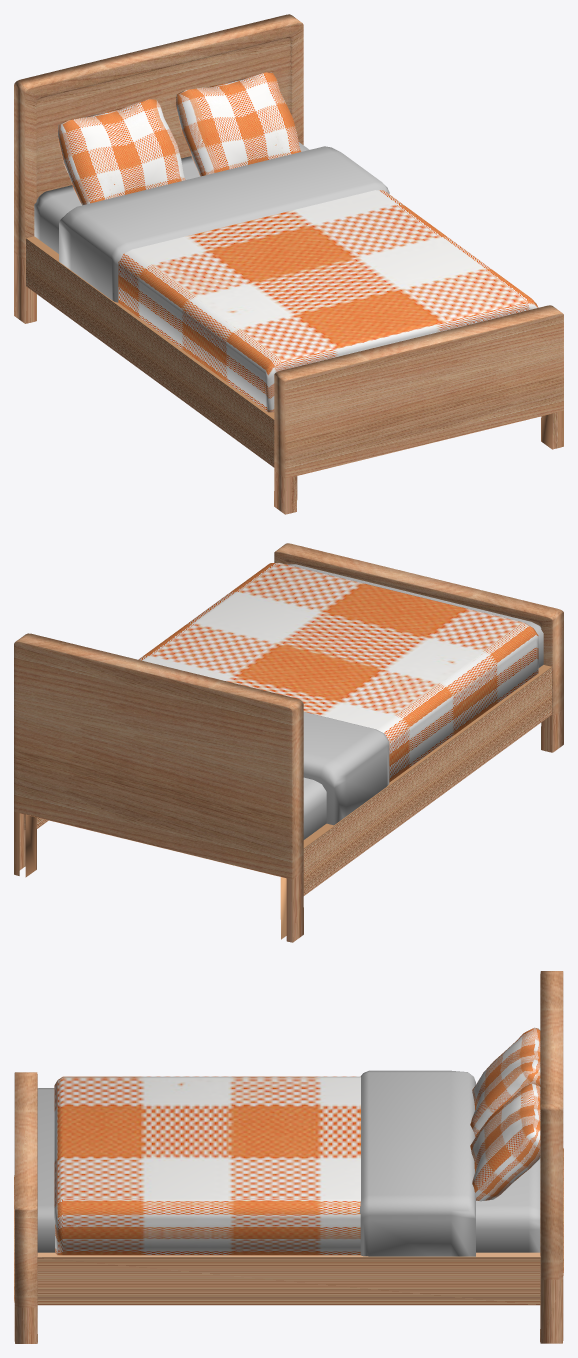
The model's file is cama.fbx.
3 renders of one model, top to bottom at view 1: azimuth 30°, elevation 25°; view 2: azimuth 150°, elevation 25°; view 3: azimuth 270°, elevation 25°, orthographic.
Parts seen in each view (by area): view 1: Cube.073, Cube.069; view 2: Cube.073, Cube.069; view 3: Cube.073, Cube.069.
Part boxes in pixels (<box>): Cube.073: <box>14,14,563,514</box>; Cube.069: <box>34,142,521,368</box>; Cube.073: <box>14,543,563,942</box>; Cube.069: <box>287,564,543,839</box>; Cube.073: <box>14,971,563,1343</box>; Cube.069: <box>37,1088,540,1252</box>.
Bounding box in the file's own units: 642 × 517 × 1086.
